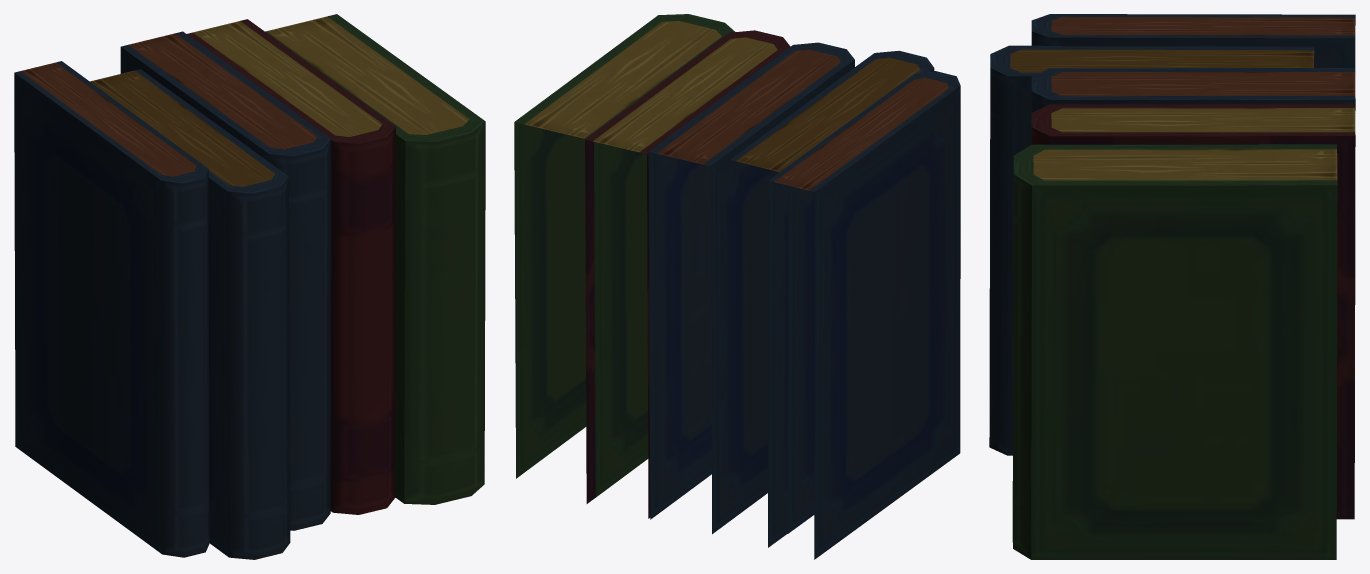
File: BookGroup Small 3.glb
The picture shows the model from 3 angles, left to right: view 1: azimuth 30°, elevation 25°; view 2: azimuth 150°, elevation 25°; view 3: azimuth 270°, elevation 25°; orthographic projection. The views are drawn at different scales.
Parts seen in each view (by area): view 1: BookGroup_Small_3; view 2: BookGroup_Small_3; view 3: BookGroup_Small_3.
Part boxes in pixels (x1=…): BookGroup_Small_3: x1=14, y1=14, x2=485, y2=559; BookGroup_Small_3: x1=514, y1=14, x2=960, y2=559; BookGroup_Small_3: x1=989, y1=14, x2=1355, y2=559.
Size of the model in its own units: 0.2448 by 0.2774 by 0.2372.
Materials: 1 (1 with a texture image).
